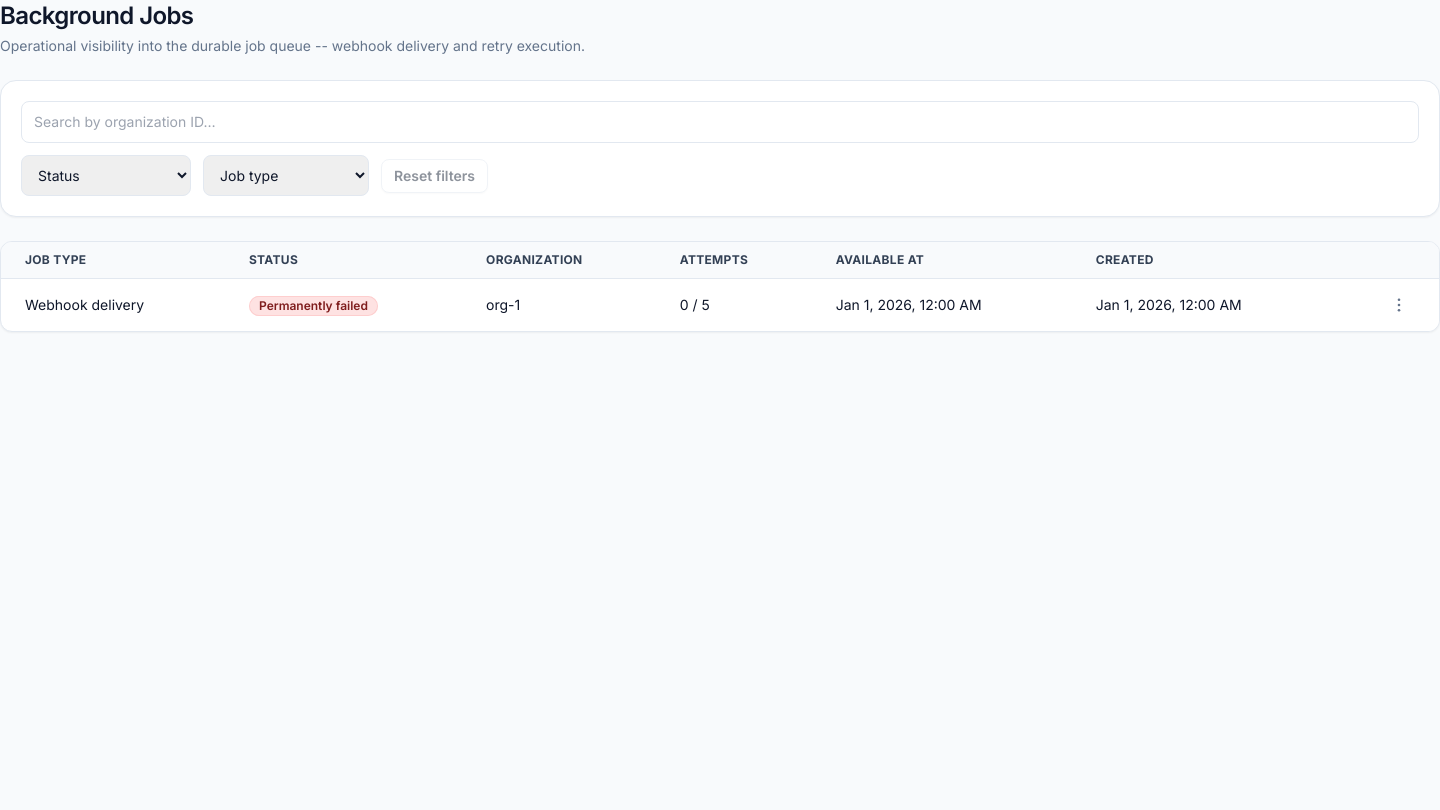
it: PlatformJobsPage › retries a permanently-failed job after entering a reason
The width and height of the screenshot is (1440, 810).
Click the button named "More actions".
click(1399, 305)  # box [1383,289,1415,321]
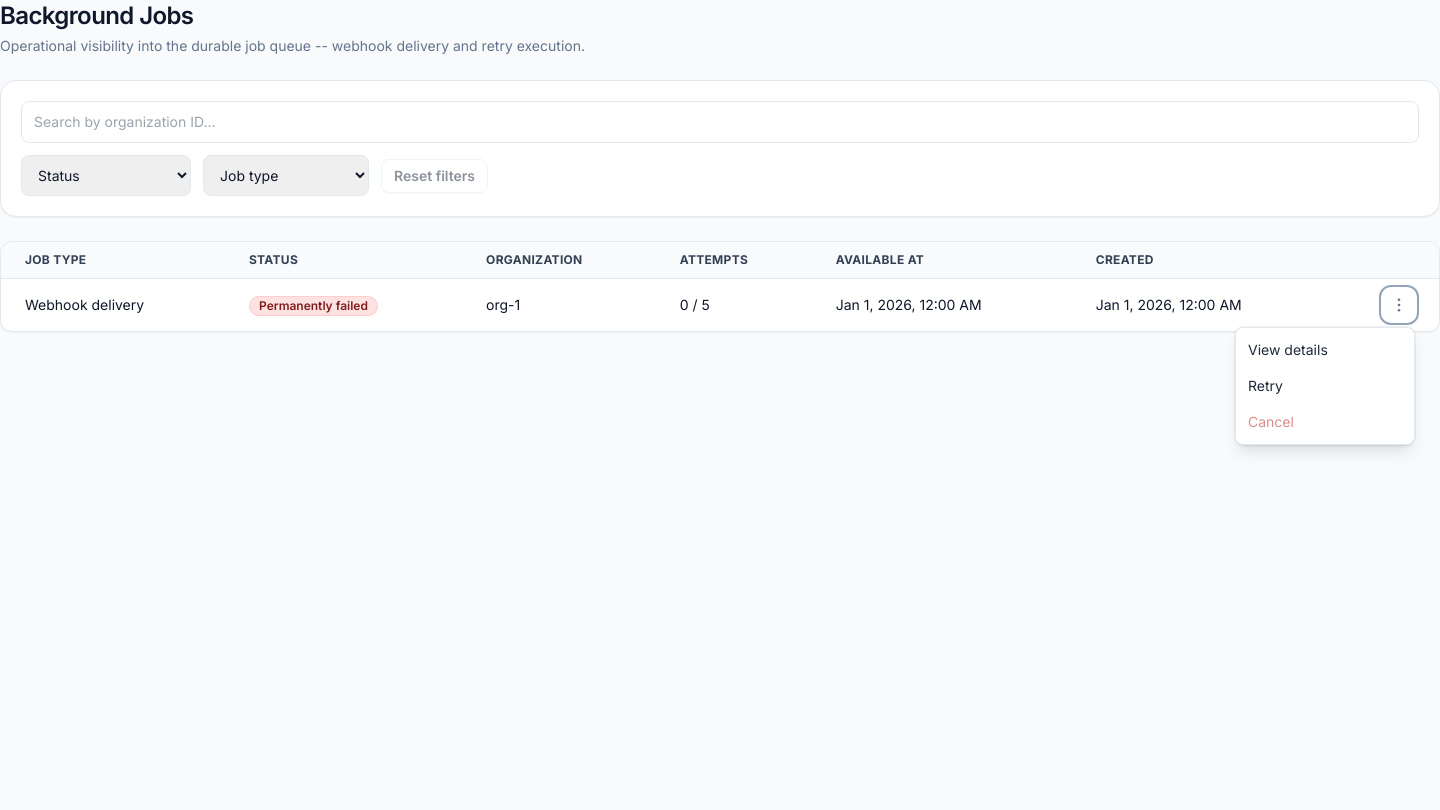
Click the menu item "Retry".
click(1325, 386)  # box [1236,368,1414,404]
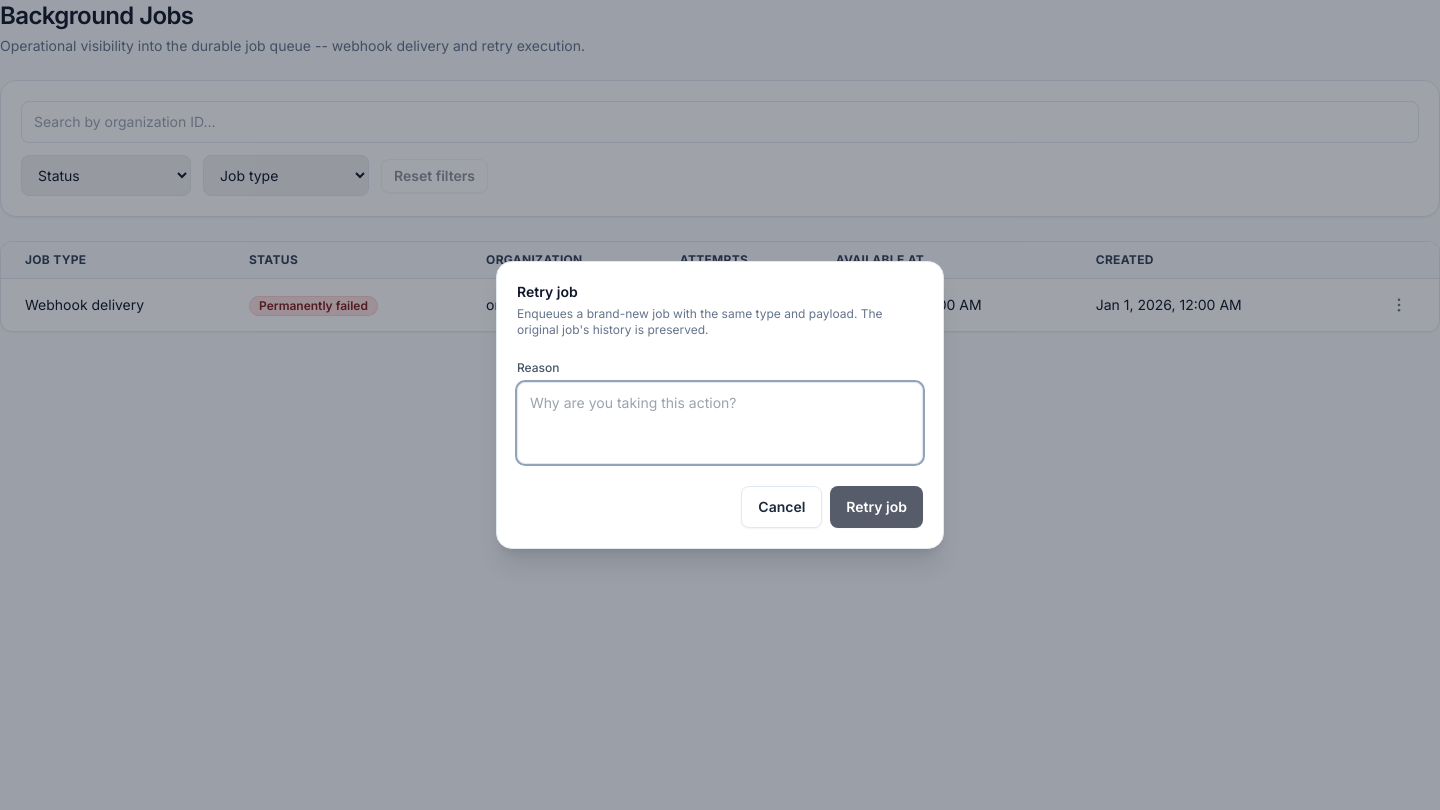
Result: the heading "Retry job" is shown at [517,283,578,300]
Type "Endpoint back online" into the text box labelled "Reason".
click(720, 423); type("Endpoint back online")  # box [517,382,923,464]
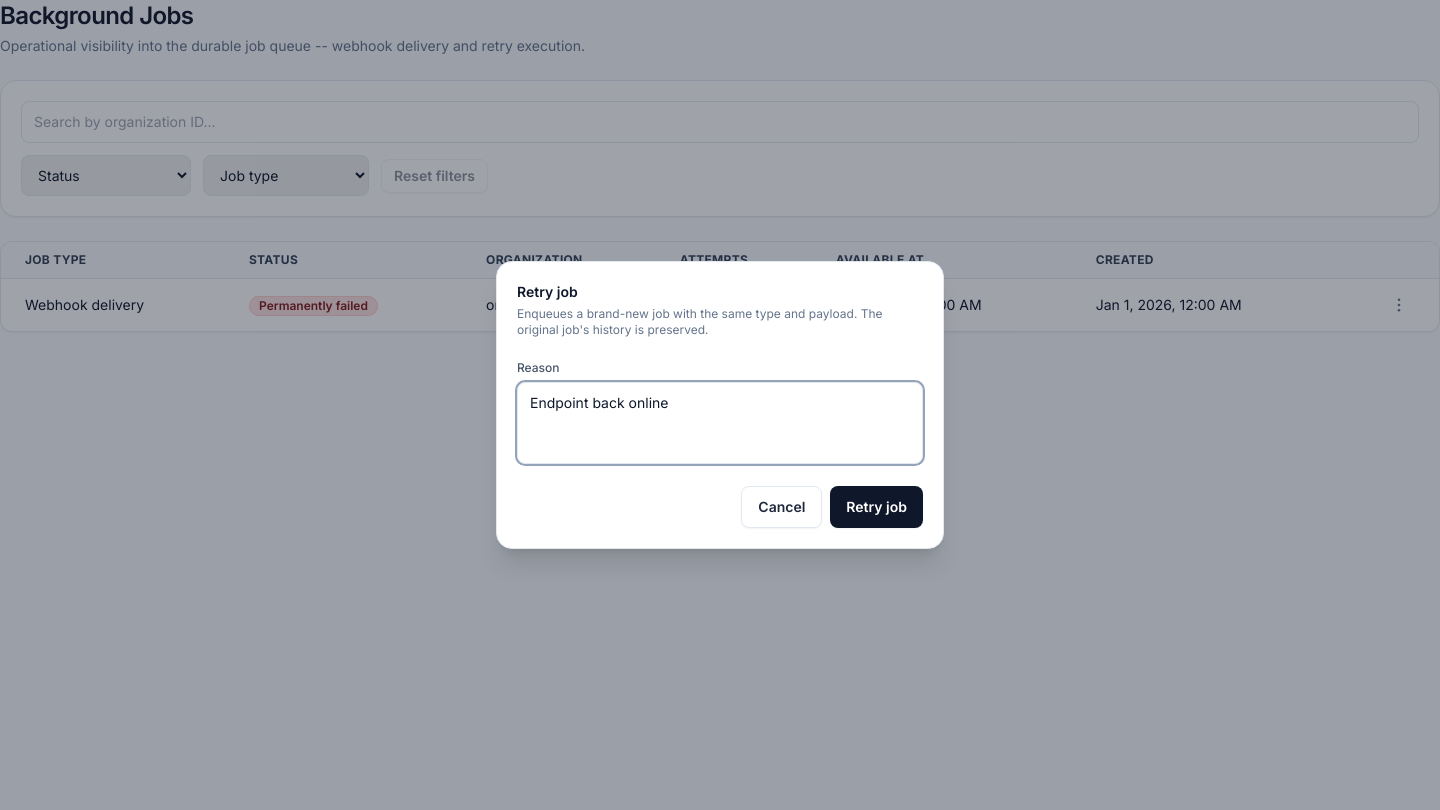
Click the button "Retry job".
click(877, 507)  # box [830,486,923,528]
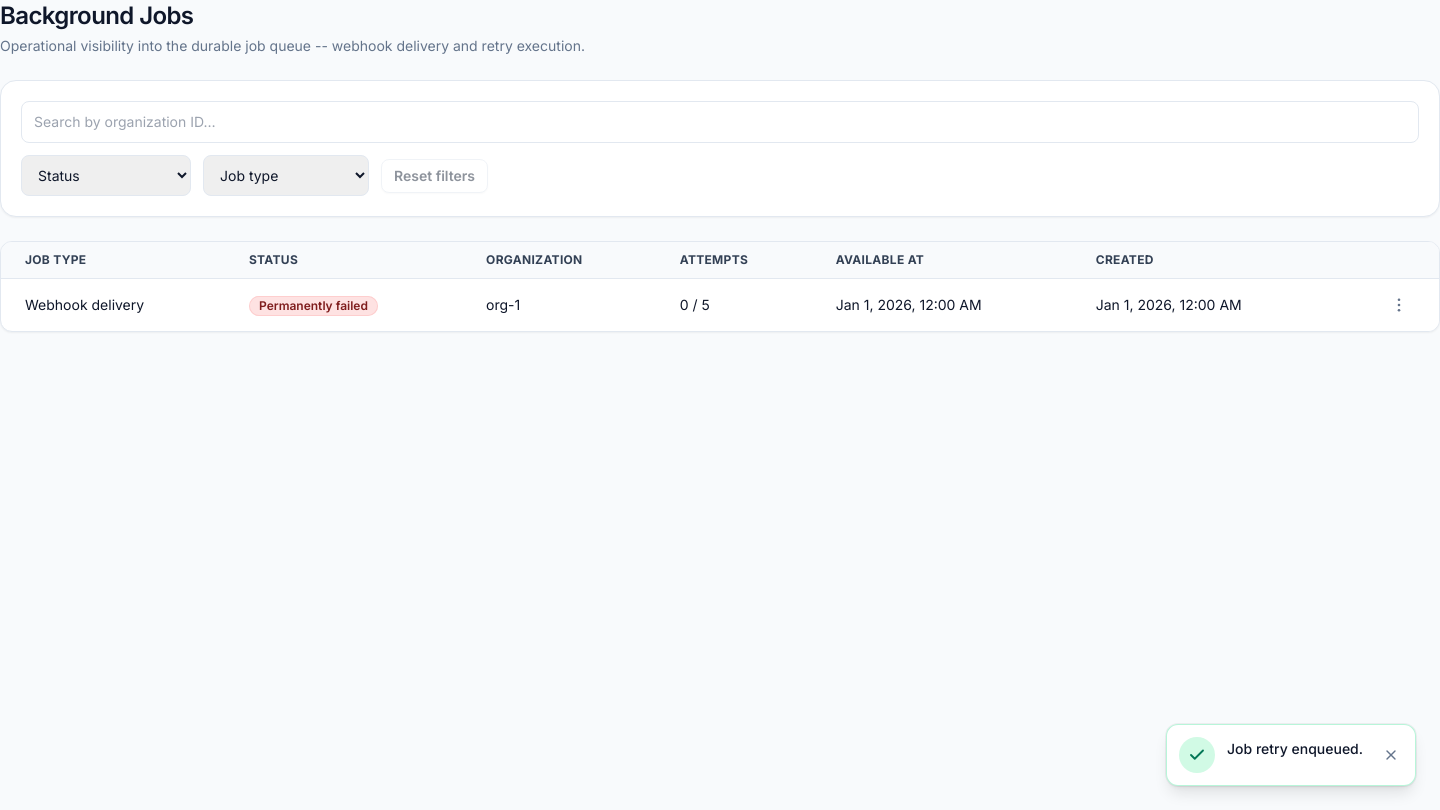
Result: the dialog is gone
